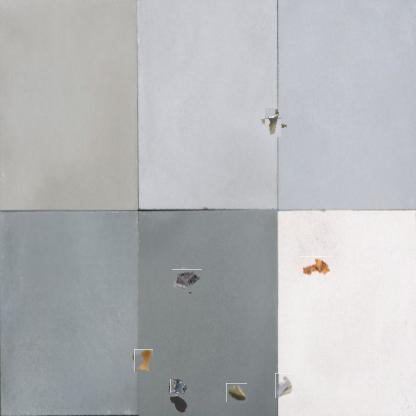dirty: (174, 268, 201, 295), (300, 256, 332, 277), (262, 111, 285, 133), (275, 373, 294, 398), (226, 382, 247, 402), (168, 380, 185, 397)
liquid: (133, 350, 154, 371), (169, 394, 189, 416)
